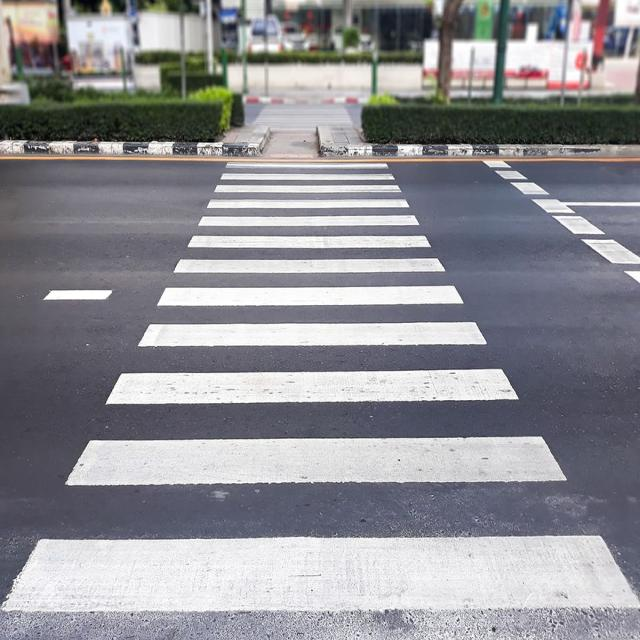Crosswalk: (0, 158, 640, 640)
